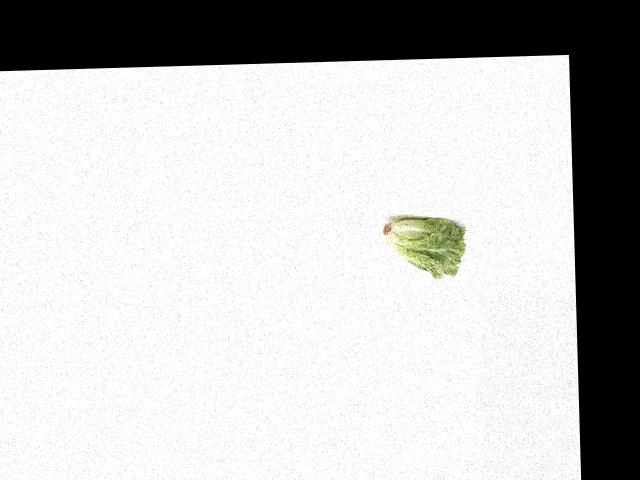lettuce: (378, 214, 466, 280)
